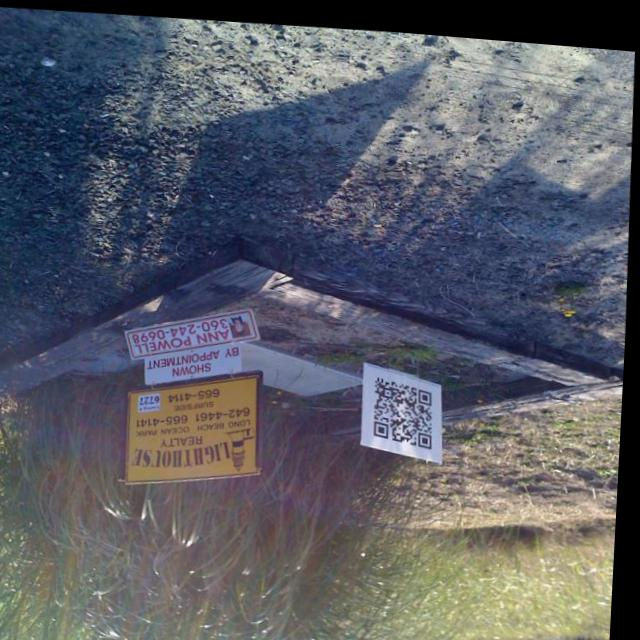qrcode: (377, 369, 439, 442)
